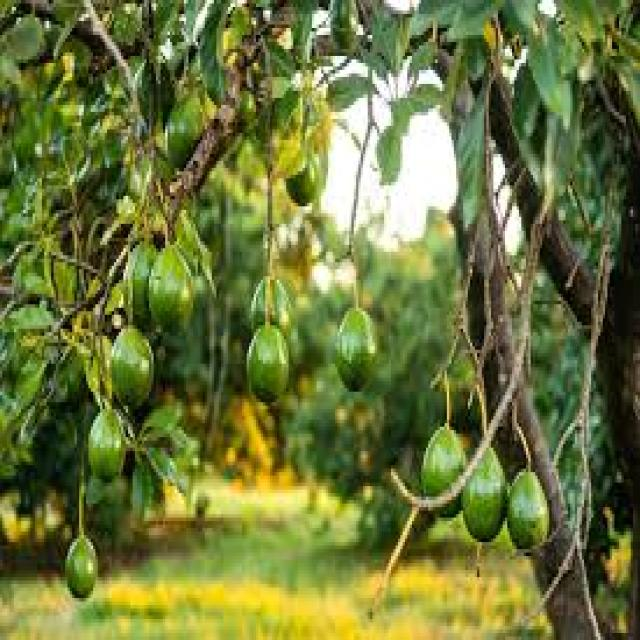avocado: (320, 283, 390, 447), (510, 448, 566, 584), (243, 304, 297, 425), (102, 306, 163, 412), (55, 509, 108, 629), (460, 437, 504, 578), (157, 78, 214, 185), (88, 397, 135, 512), (424, 396, 458, 536), (244, 261, 296, 352), (150, 250, 196, 343), (124, 226, 164, 319)
